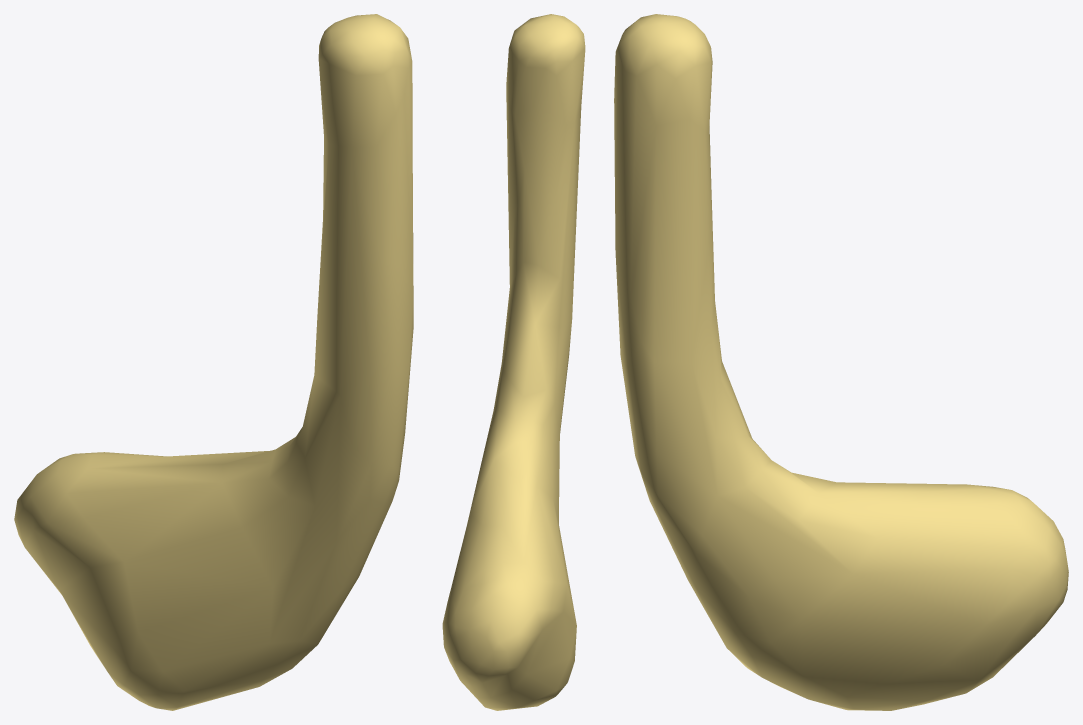
The picture shows the model from 3 angles, left to right: view 1: azimuth 30°, elevation 25°; view 2: azimuth 150°, elevation 25°; view 3: azimuth 270°, elevation 25°; orthographic projection. The views are drawn at different scales.
Visible parts, largest first — view 1: ZA_b20f7de2a066a1eb; view 2: ZA_b20f7de2a066a1eb; view 3: ZA_b20f7de2a066a1eb.
Boxes of the visible parts, x1,y1,x2,y2 form: ZA_b20f7de2a066a1eb: (14,14,413,710); ZA_b20f7de2a066a1eb: (442,14,585,710); ZA_b20f7de2a066a1eb: (614,14,1068,710).
Size of the model in its own units: 0.00598 by 0.0206 by 0.0116.
